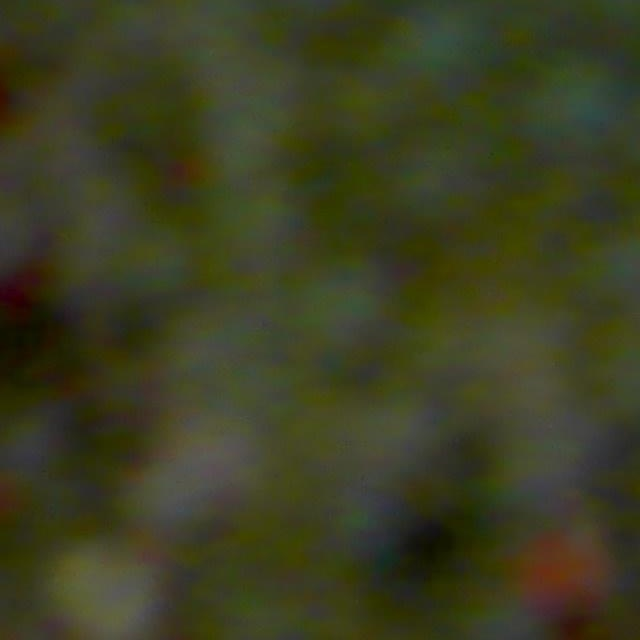SeaGrape: (51, 542, 166, 639)
